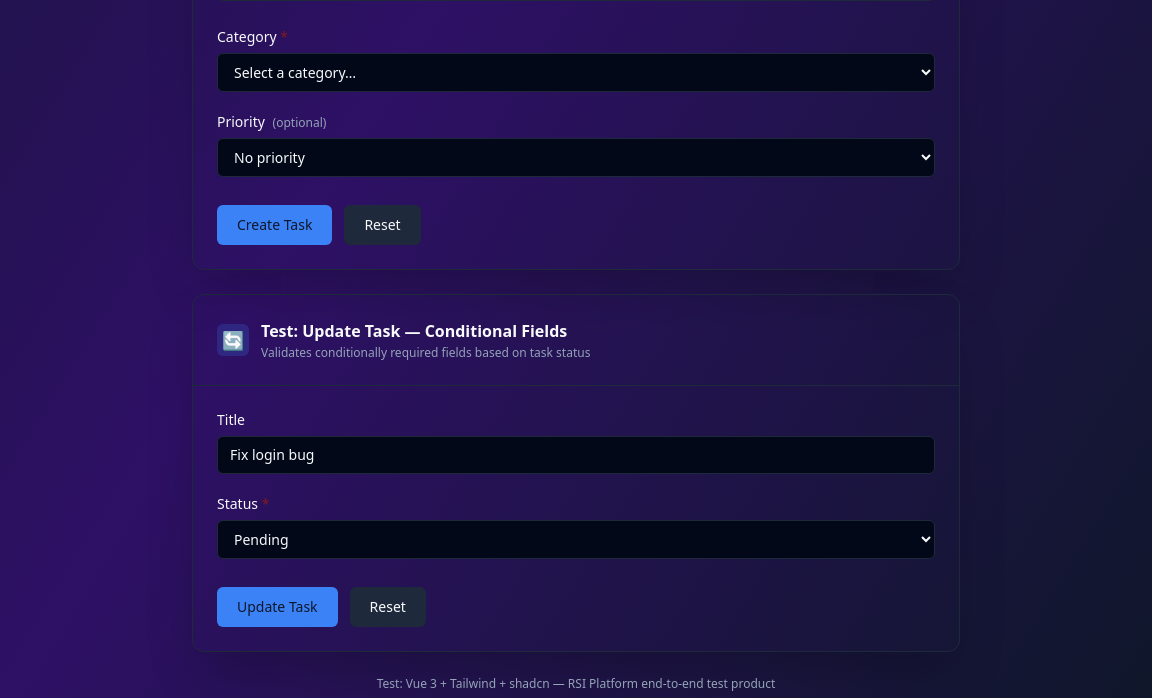
Test: Update Task — Conditional Fields › shows blocked reason field when status is changed to blocked
The image size is (1152, 698).
(page scrolled)
Select "Blocked" in the dropdown with id "update-status". click: (576, 540)
box: [217,520,935,559]
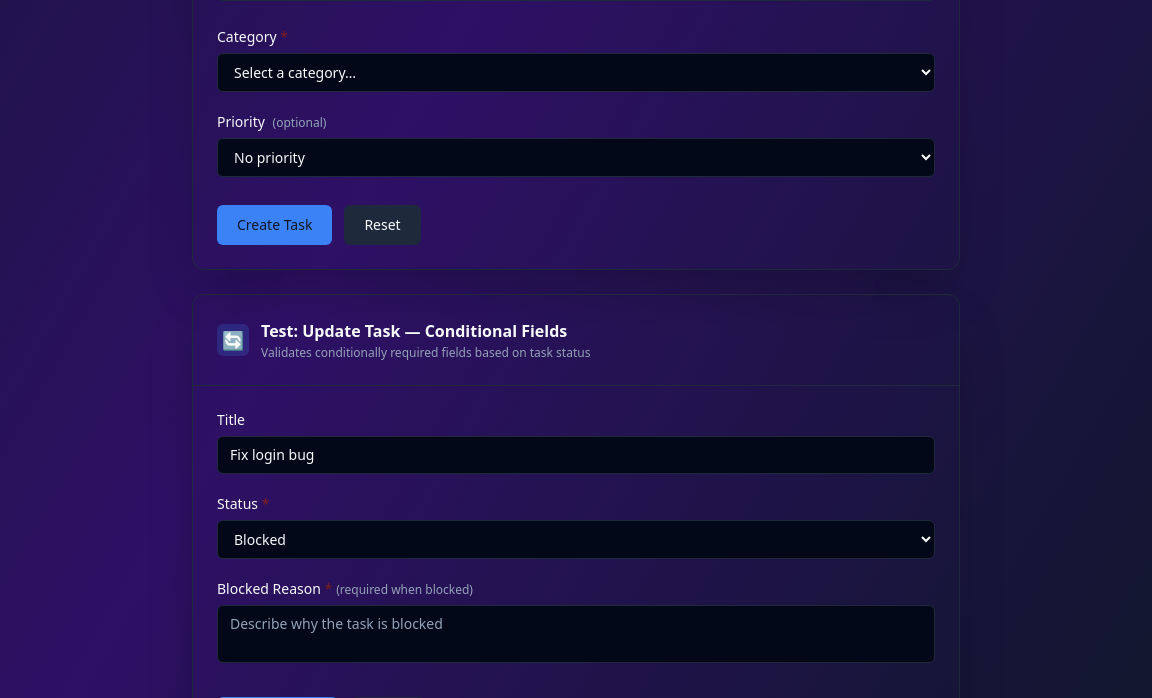
Now the text box with id "update-blocked-reason" is shown, box [217,605,935,663]
